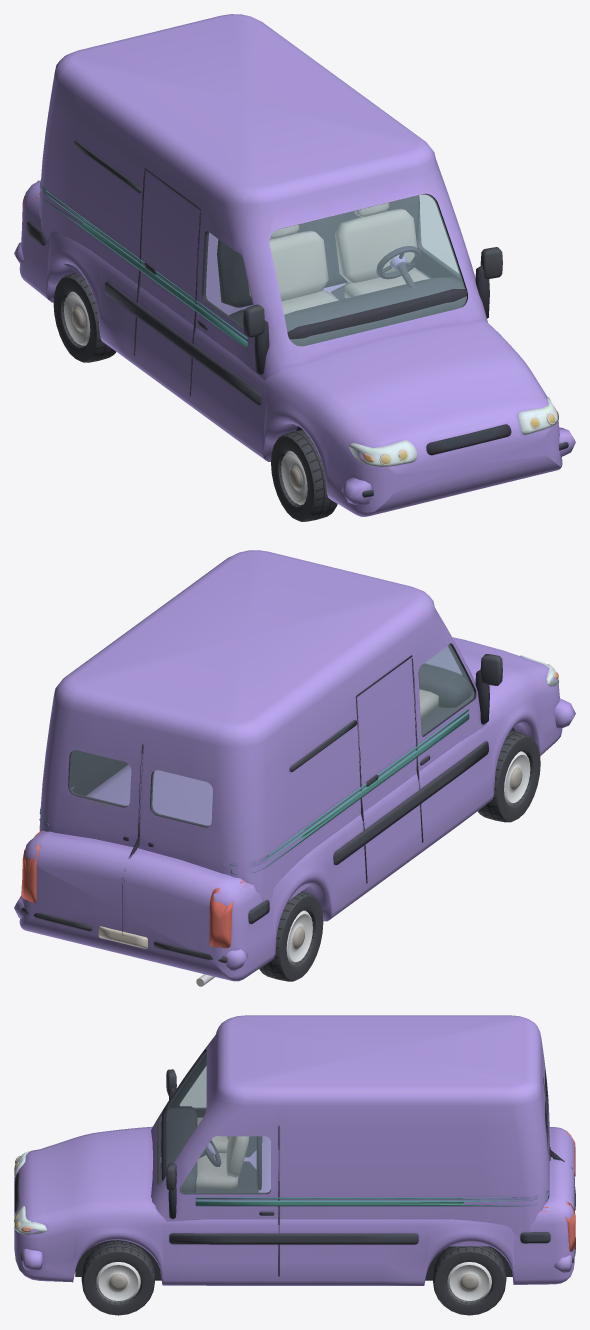
File: 1990s-delivery-van.glb
3 renders of one model, top to bottom at view 1: azimuth 30°, elevation 25°; view 2: azimuth 150°, elevation 25°; view 3: azimuth 270°, elevation 25°, orthographic. The views are drawn at different scales.
Parts seen in each view (by area): view 1: 1990s-delivery-van_body, 1990s-delivery-van_windows, 1990s-delivery-van_wheel_fr, 1990s-delivery-van_wheel_rr; view 2: 1990s-delivery-van_body, 1990s-delivery-van_windows, 1990s-delivery-van_wheel_fr, 1990s-delivery-van_wheel_rr; view 3: 1990s-delivery-van_body, 1990s-delivery-van_windows, 1990s-delivery-van_wheel_fl, 1990s-delivery-van_wheel_rl.
Boxes of the visible parts, x1,y1,x2,y2 form: 1990s-delivery-van_body: [14, 14, 575, 516]; 1990s-delivery-van_windows: [204, 194, 466, 346]; 1990s-delivery-van_wheel_fr: [271, 429, 337, 521]; 1990s-delivery-van_wheel_rr: [53, 272, 115, 362]; 1990s-delivery-van_body: [14, 550, 575, 986]; 1990s-delivery-van_windows: [69, 644, 473, 826]; 1990s-delivery-van_wheel_fr: [477, 730, 540, 822]; 1990s-delivery-van_wheel_rr: [259, 891, 323, 981]; 1990s-delivery-van_body: [14, 1015, 575, 1285]; 1990s-delivery-van_windows: [159, 1051, 545, 1193]; 1990s-delivery-van_wheel_fl: [81, 1241, 155, 1315]; 1990s-delivery-van_wheel_rl: [432, 1246, 506, 1315].
Bounding box in the file's own units: 2.07 × 2.11 × 4.87.
Materials: 6 (2 with a texture image).
